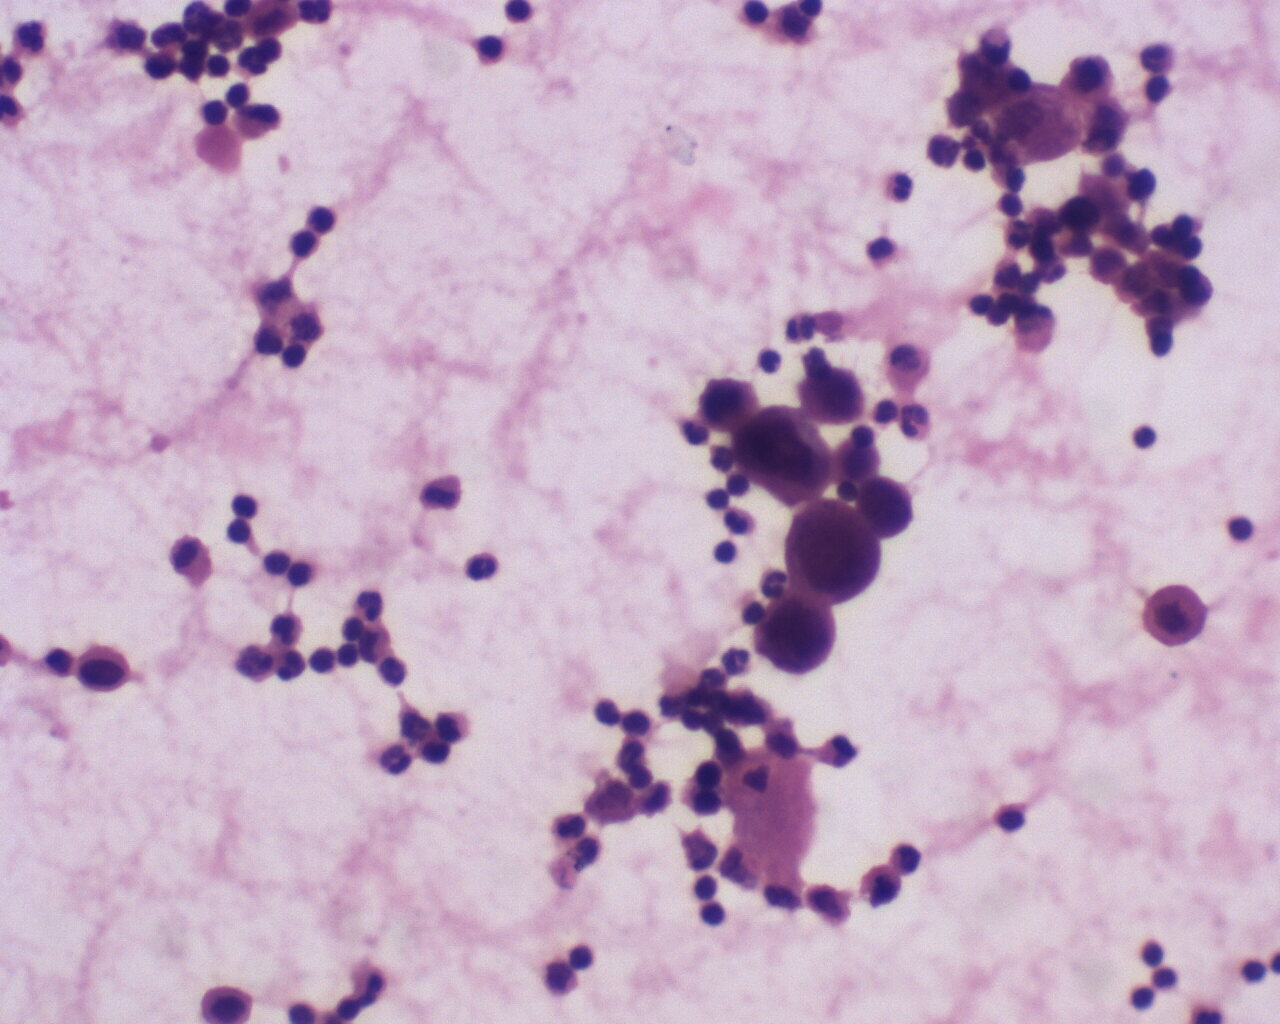ab: (729, 405, 833, 508), (788, 497, 886, 599), (753, 585, 838, 677), (797, 362, 867, 427), (860, 474, 920, 543), (697, 374, 758, 433)
lymph: (285, 226, 326, 260), (994, 802, 1027, 836), (473, 31, 505, 65), (224, 519, 257, 546), (1130, 420, 1158, 451)
neutro: (899, 399, 934, 441), (718, 643, 754, 682), (463, 551, 506, 584), (377, 744, 415, 777)
